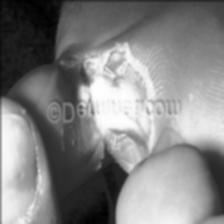Toxin: (58, 57, 154, 176)
